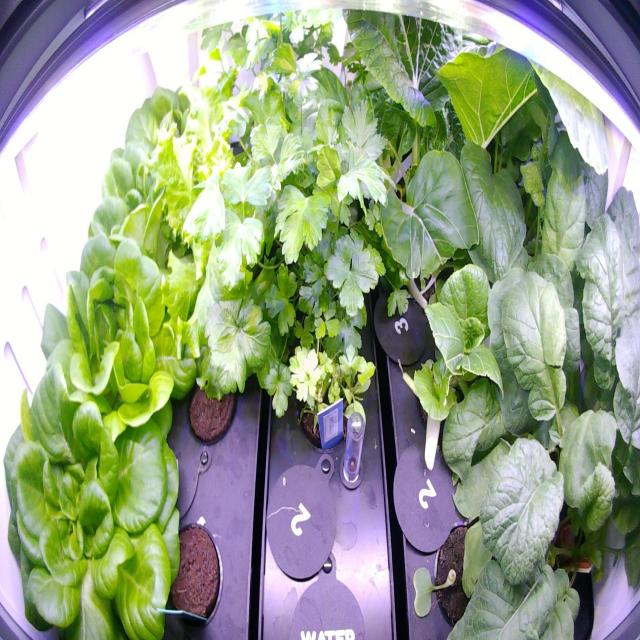Ready: (0, 359, 190, 638), (28, 214, 206, 433), (80, 132, 210, 300), (99, 54, 230, 208)
pod: (150, 513, 228, 639), (178, 346, 242, 449)
